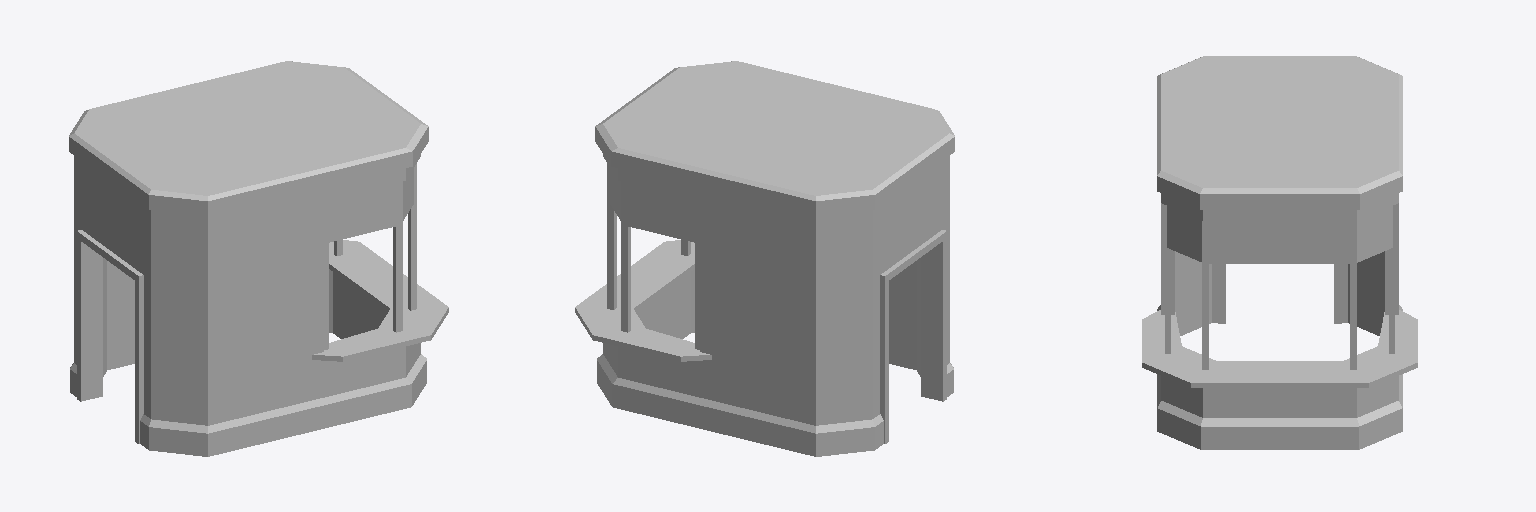
Rendered from ticket_booth2.obj.
3 views of the same model, side by side, from view 1: azimuth 30°, elevation 25°; view 2: azimuth 150°, elevation 25°; view 3: azimuth 270°, elevation 25° (orthographic).
Parts seen in each view (by area): view 1: obj1, obj4, obj3; view 2: obj1, obj4, obj3; view 3: obj4, obj1, obj3.
Part boxes in pixels (bbox=[...]): obj1: bbox=[70, 155, 426, 456]; obj4: bbox=[69, 61, 428, 216]; obj3: bbox=[77, 164, 448, 443]; obj1: bbox=[597, 155, 953, 456]; obj4: bbox=[595, 61, 954, 216]; obj3: bbox=[575, 164, 946, 443]; obj4: bbox=[1157, 56, 1402, 209]; obj1: bbox=[1157, 193, 1402, 449]; obj3: bbox=[1142, 205, 1417, 387].
Size of the model in its own units: 4.07 by 3.4 by 3.28.